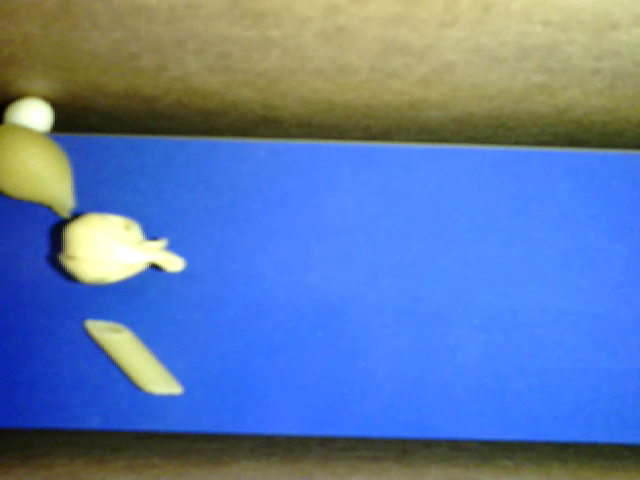penne: (84, 318, 185, 396)
shell: (1, 122, 77, 217)
tortellini: (62, 210, 187, 284)
